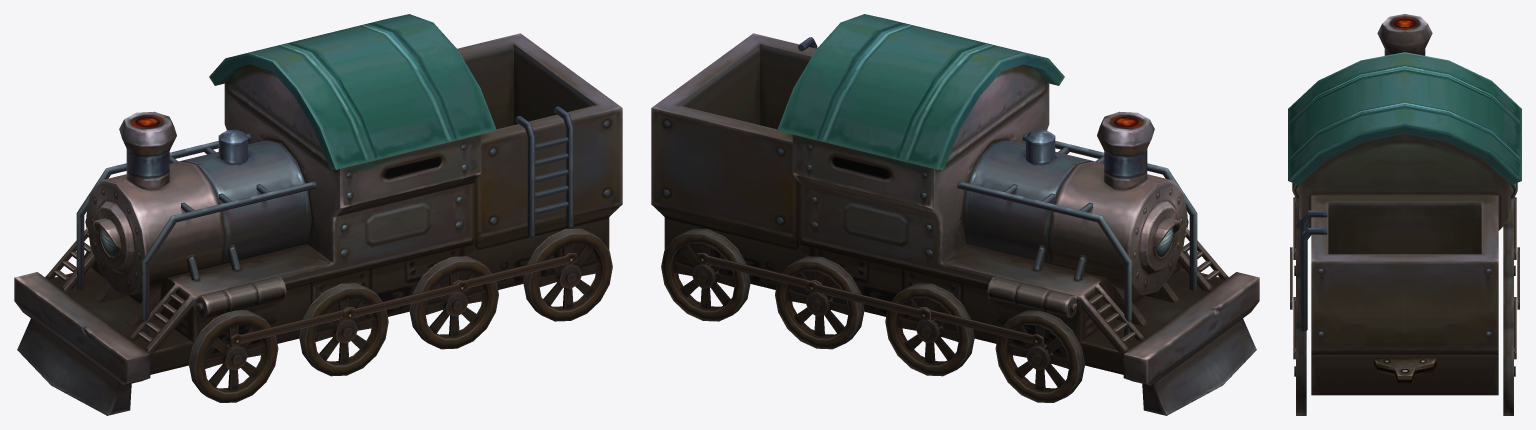
Rendered from train_02.fbx.
The picture shows the model from 3 angles, left to right: view 1: azimuth 30°, elevation 25°; view 2: azimuth 150°, elevation 25°; view 3: azimuth 270°, elevation 25°; orthographic projection. The views are drawn at different scales.
Parts seen in each view (by area): view 1: Object030; view 2: Object030; view 3: Object030.
Boxes of the visible parts, box(x1,y1,x2,y2) form: Object030: box(14, 14, 622, 415); Object030: box(651, 14, 1259, 415); Object030: box(1288, 14, 1521, 415).
Size of the model in its own units: 1186 by 566 by 475.
Materials: 1 (1 with a texture image).
